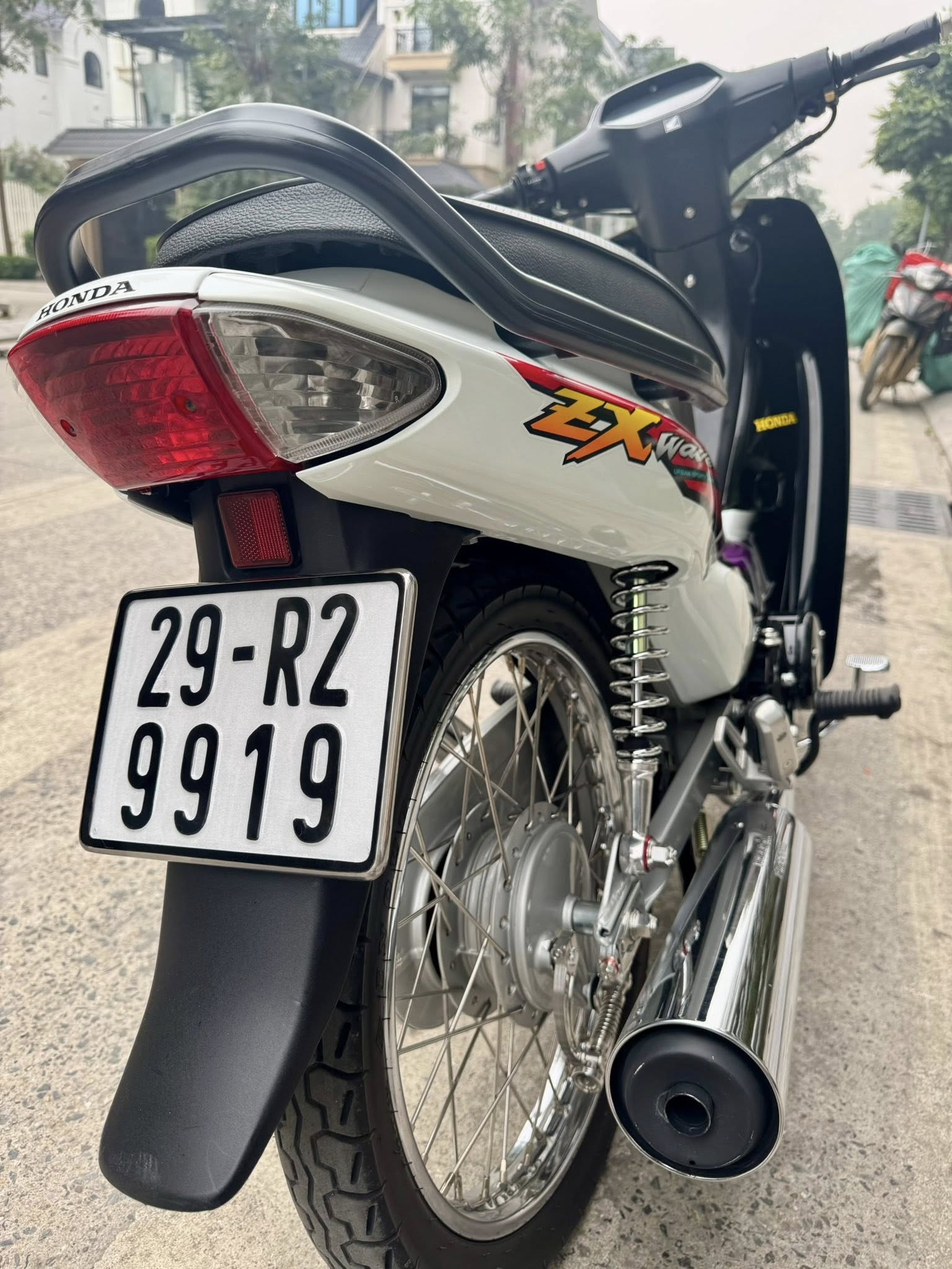bien_so: (70, 557, 433, 889)
